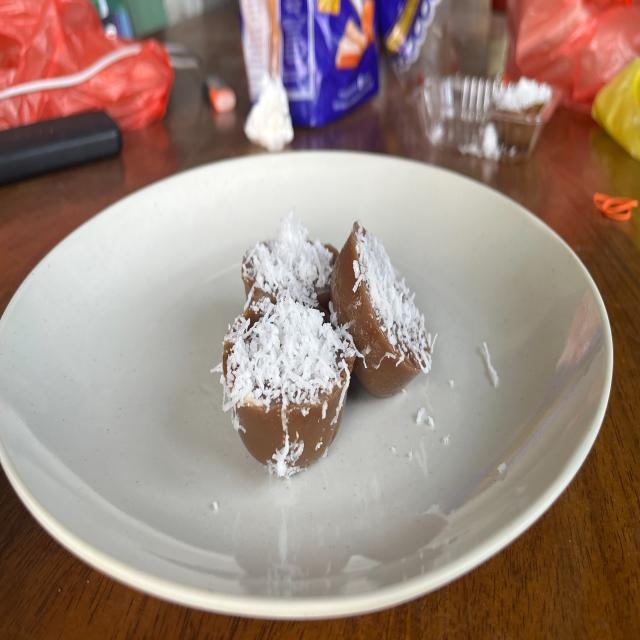Kuih lompang: (221, 280, 356, 476), (331, 222, 434, 398), (242, 211, 339, 322)
